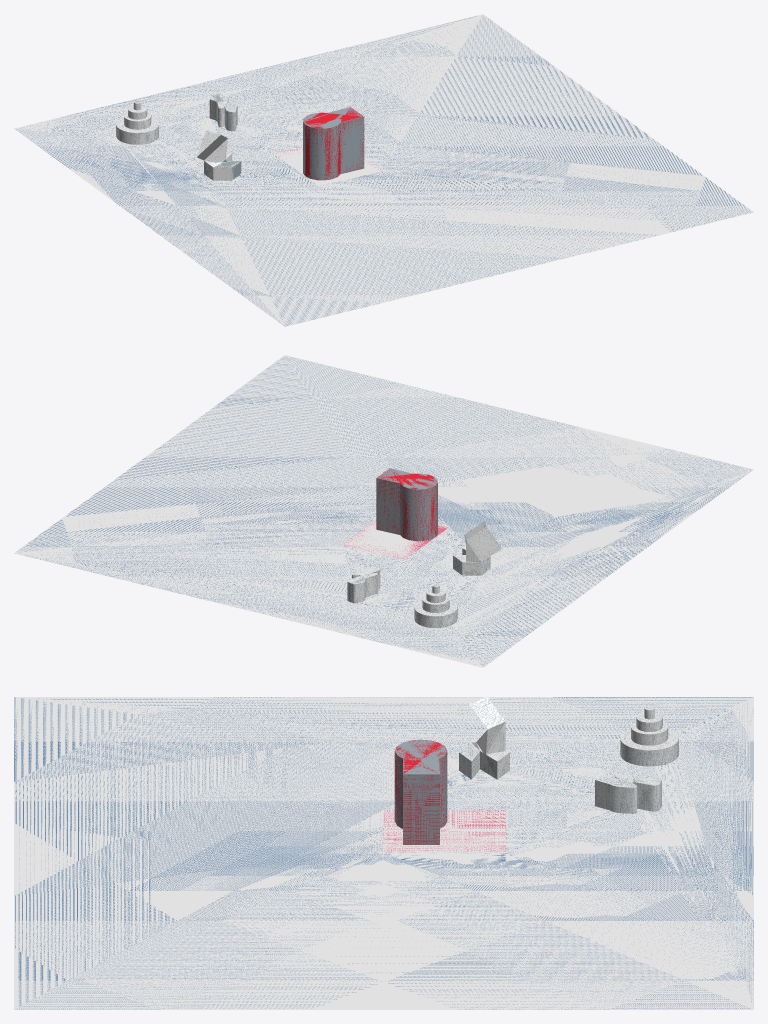
File: world1.fbx
3 renders of one model, top to bottom at view 1: azimuth 30°, elevation 25°; view 2: azimuth 150°, elevation 25°; view 3: azimuth 270°, elevation 25°, orthographic. The views are drawn at different scales.
Parts seen in each view (by area): view 1: Model; view 2: Model; view 3: Model.
Boxes of the visible parts, x1,y1,x2,y2 form: Model: [14, 14, 753, 326]; Model: [14, 355, 753, 667]; Model: [14, 696, 753, 1009].
Size of the model in its own units: 100 by 10.52 by 100.
